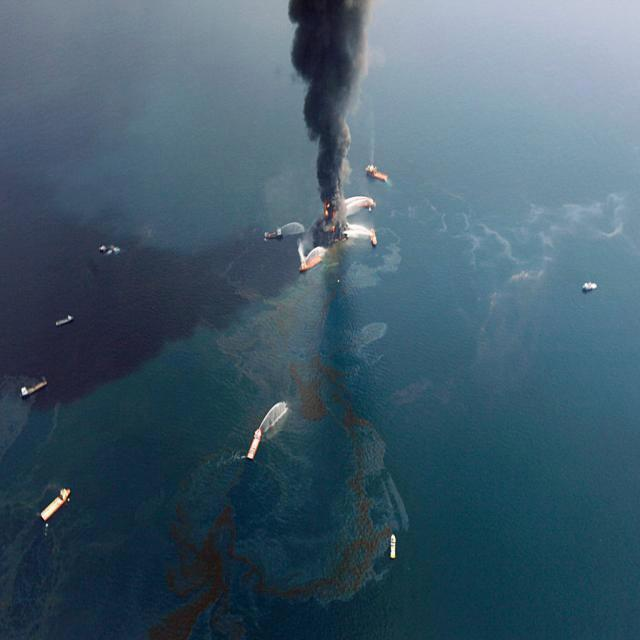oil: (7, 182, 432, 640), (468, 192, 636, 400)
